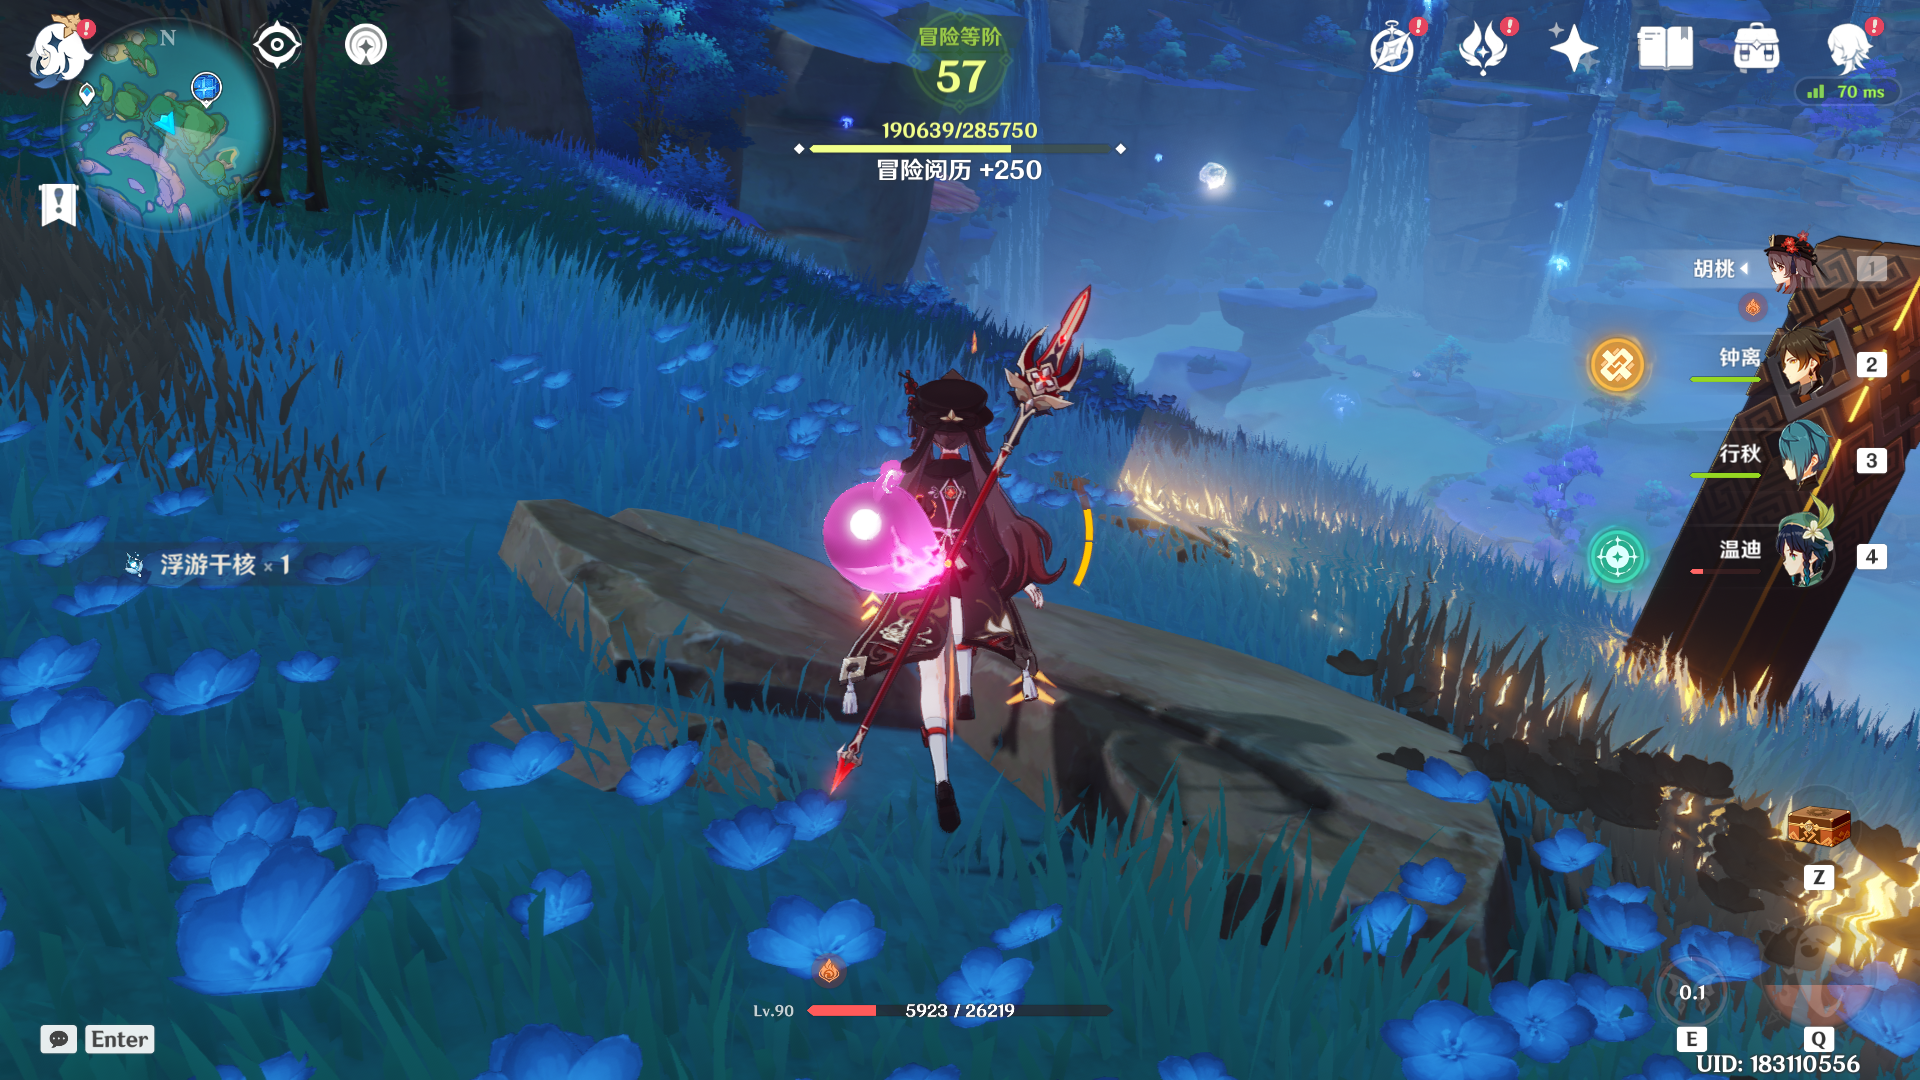character: (773, 328, 1160, 844)
